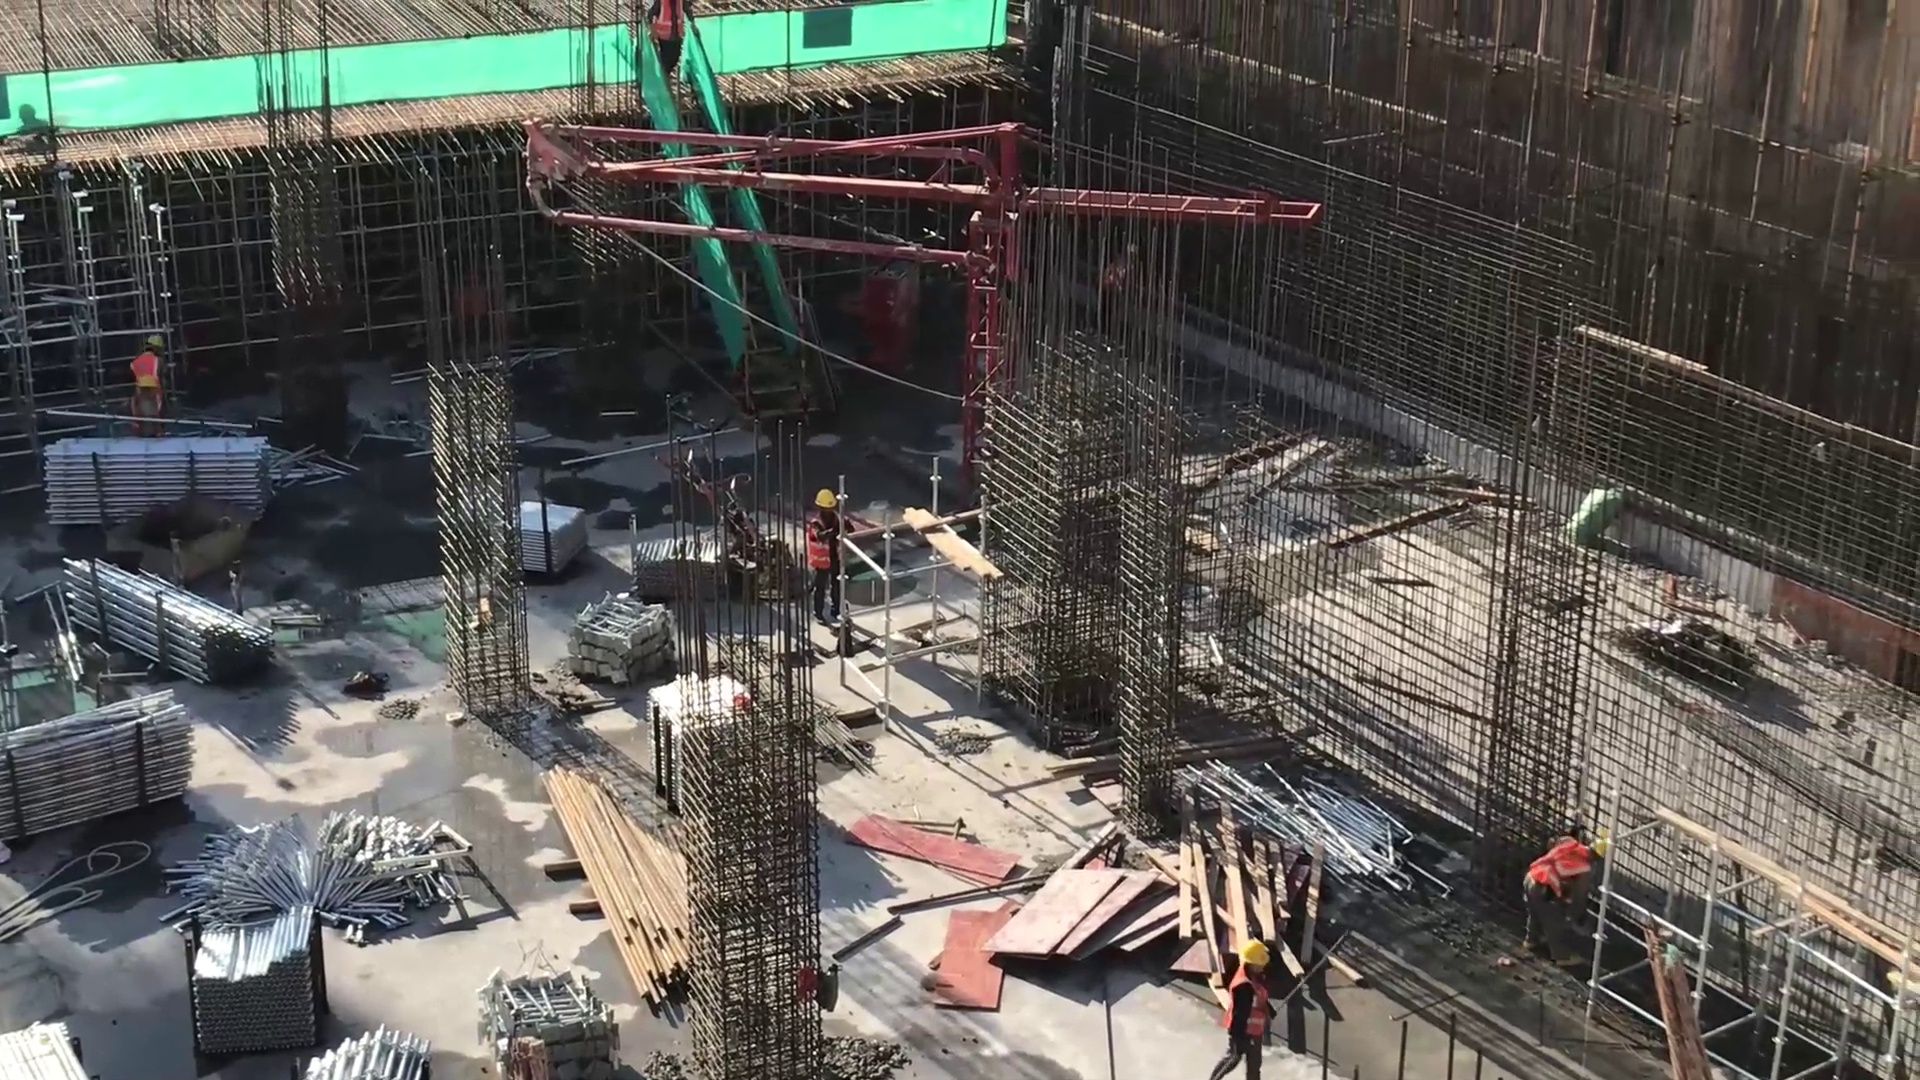board: (993, 862, 1162, 954)
helmet: (1240, 941, 1272, 965), (815, 489, 840, 509), (148, 334, 163, 347), (136, 377, 157, 387)
person: (1525, 819, 1617, 966), (1216, 935, 1278, 1080), (808, 489, 847, 626), (120, 334, 171, 410), (131, 372, 159, 445)
scaffold: (1, 684, 193, 841), (69, 558, 277, 679), (201, 895, 333, 1057), (54, 430, 273, 524), (1239, 766, 1400, 891), (635, 522, 715, 592), (519, 504, 590, 581), (292, 1033, 402, 1080), (1, 1019, 80, 1080)
vest: (1534, 835, 1587, 907), (1224, 971, 1271, 1042), (810, 513, 843, 576)
wood: (544, 769, 709, 989), (1183, 816, 1363, 968)
